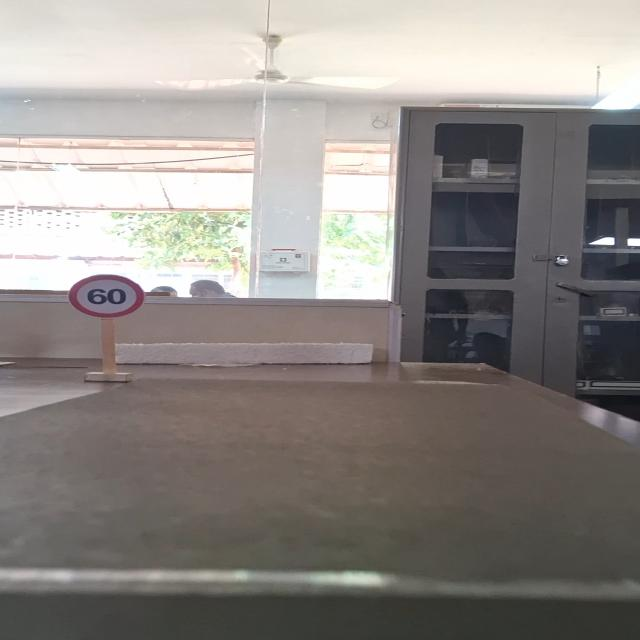Speed60: (66, 273, 146, 320)
